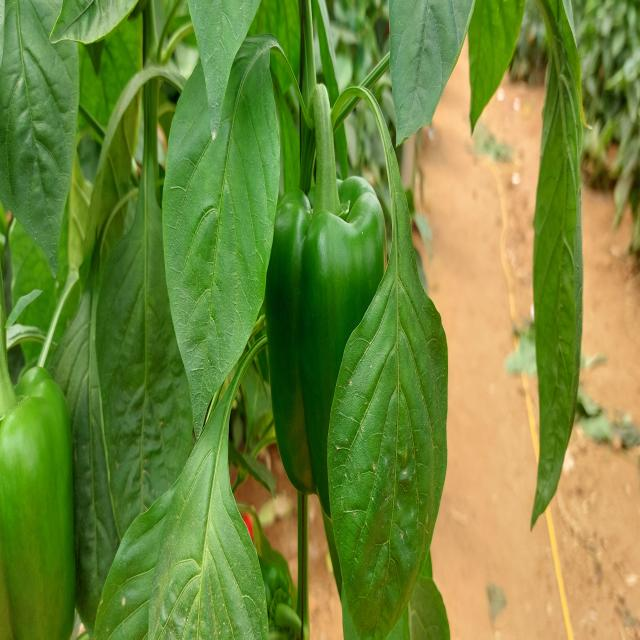Green--Not-ready-to-harvest: (265, 181, 397, 522), (0, 352, 89, 640)
